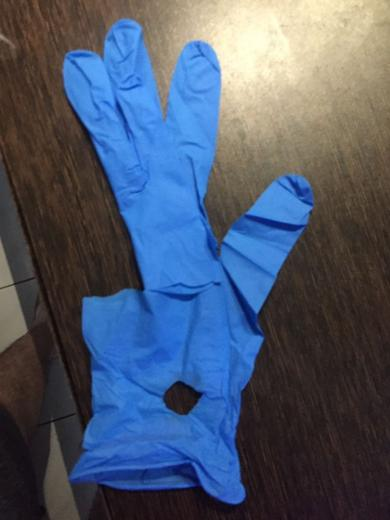defected: (43, 27, 347, 505)
